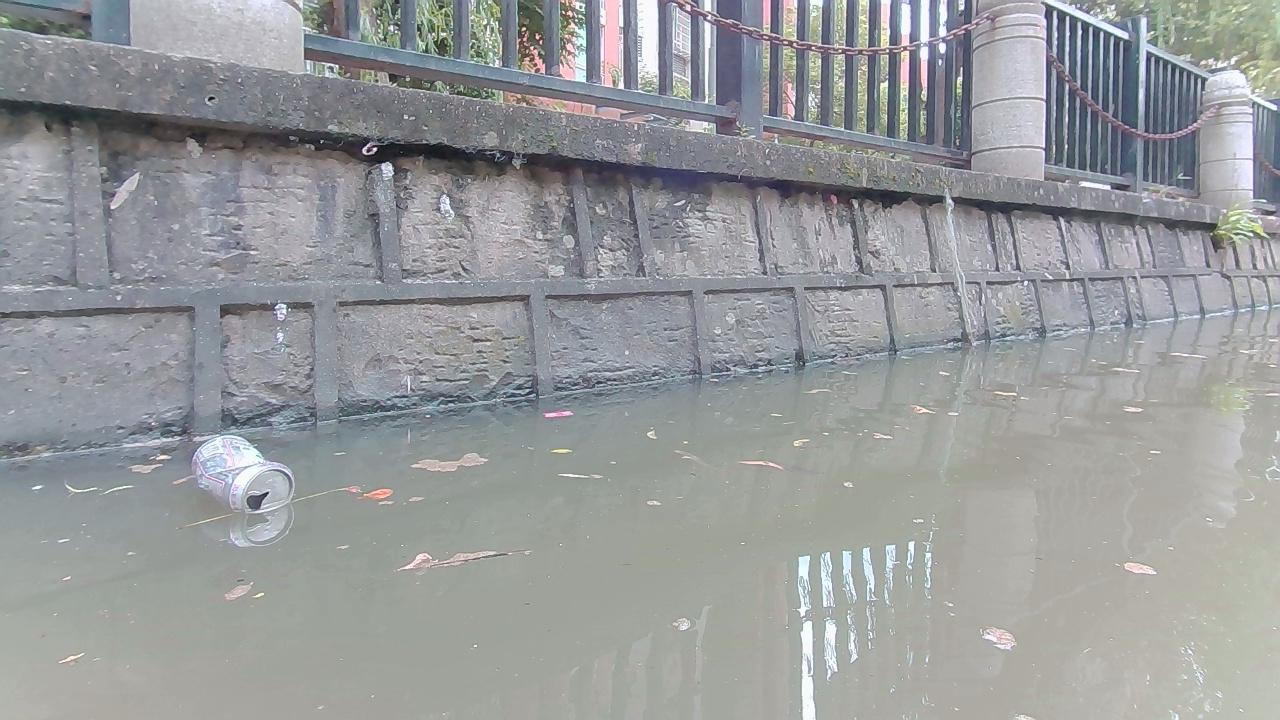Metal: (188, 433, 297, 516)
